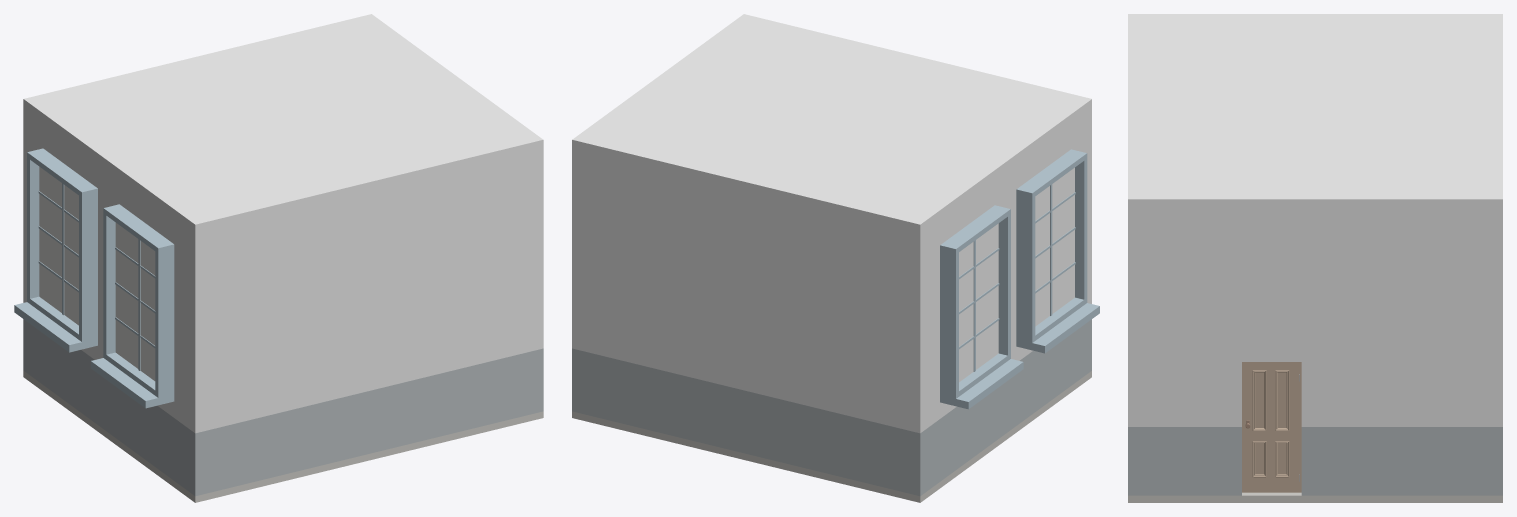
File: 886_drawing_room.glb
The picture shows the model from 3 angles, left to right: view 1: azimuth 30°, elevation 25°; view 2: azimuth 150°, elevation 25°; view 3: azimuth 270°, elevation 25°; orthographic projection. The views are drawn at different scales.
Visible parts, largest first — view 1: kabe3, 天井, kabe4, 床, kabe2, kabe1; view 2: kabe1, 天井, kabe4, 床, kabe2; view 3: kabe2, 天井, 戸, 床, kabe1, kabe3.
Part boxes in pixels (bbox=[...]): kabe3: bbox=[189, 148, 542, 496]; 天井: bbox=[23, 14, 543, 231]; kabe4: bbox=[14, 108, 204, 495]; 床: bbox=[23, 371, 543, 502]; kabe2: bbox=[534, 146, 543, 413]; kabe1: bbox=[23, 106, 28, 374]; kabe1: bbox=[572, 148, 925, 495]; 天井: bbox=[572, 14, 1091, 231]; kabe4: bbox=[911, 106, 1099, 496]; 床: bbox=[572, 371, 1091, 502]; kabe2: bbox=[572, 146, 581, 413]; kabe2: bbox=[1128, 206, 1502, 495]; 天井: bbox=[1128, 14, 1502, 206]; 戸: bbox=[1244, 362, 1299, 490]; 床: bbox=[1128, 492, 1502, 502]; kabe1: bbox=[1491, 206, 1502, 495]; kabe3: bbox=[1128, 207, 1139, 495].
Size of the model in its own units: 5.95 by 4.2 by 4.7.
